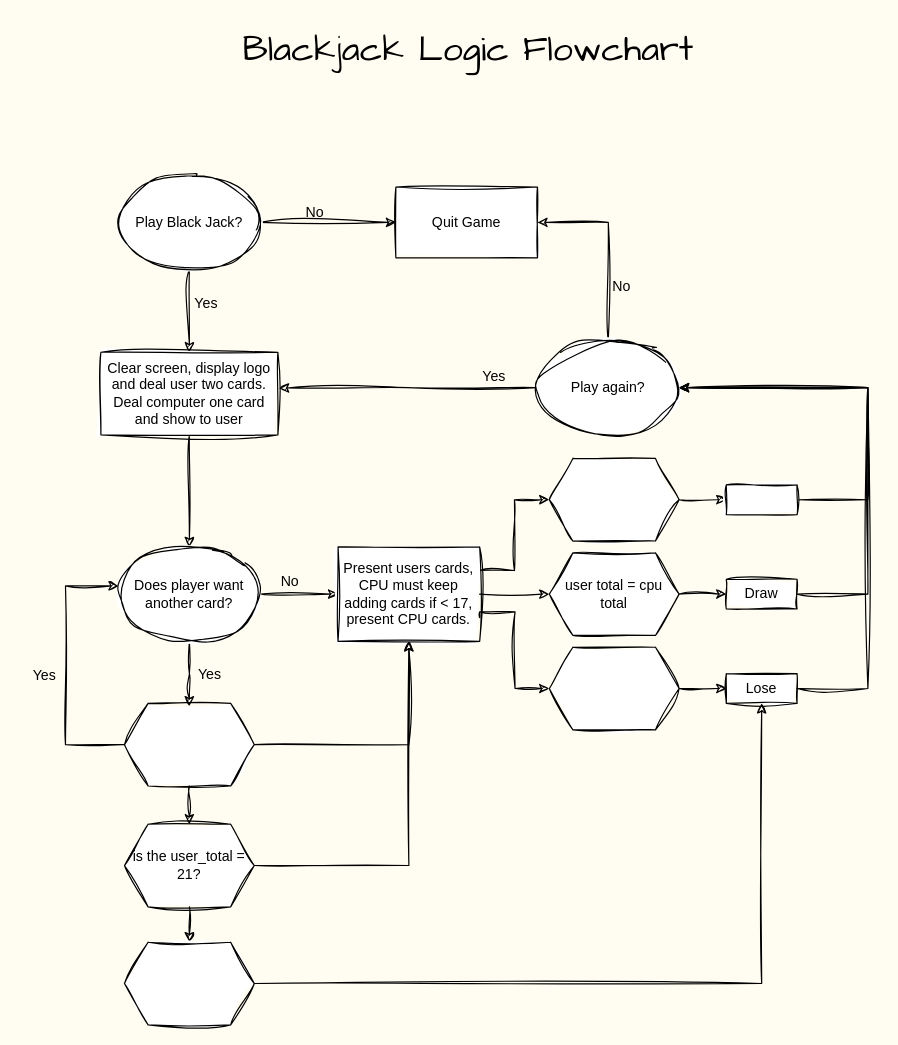
This 898x1045 diagram has some shape labels left out. Here are the shapes that lost their labels. From the top down, the box of each, then its label:
(548, 457, 679, 541): cards <= 21 AND user total > cpu total
(725, 484, 797, 515): Win
(548, 646, 679, 730): cards > 21 or user total < cpu total
(123, 702, 254, 786): is the user_total < 21?
(123, 941, 254, 1025): is the user_total > 21?
